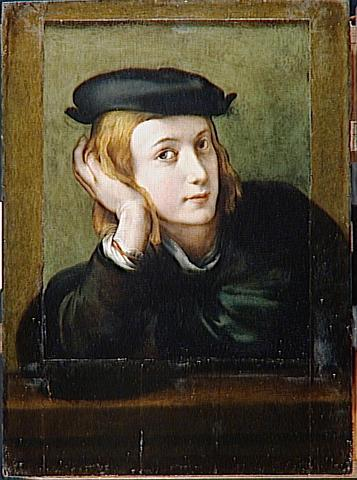person: (41, 66, 352, 397)
